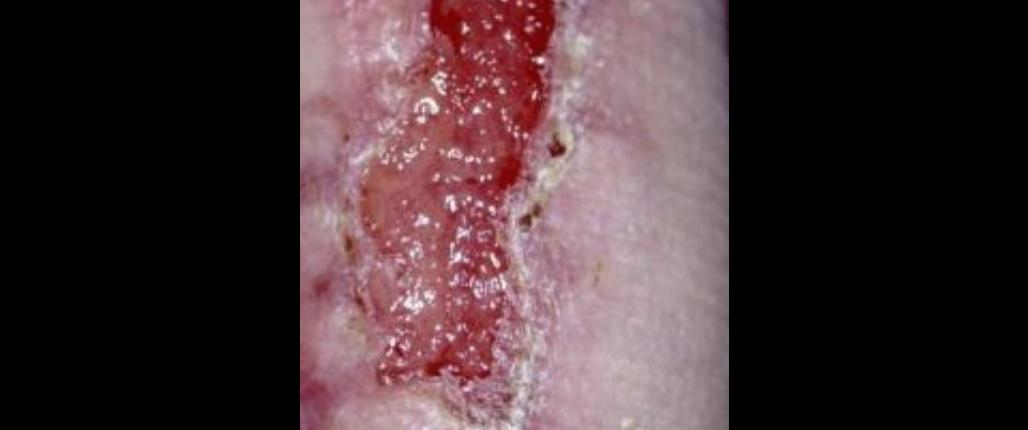NonPU: (299, 0, 637, 430)
